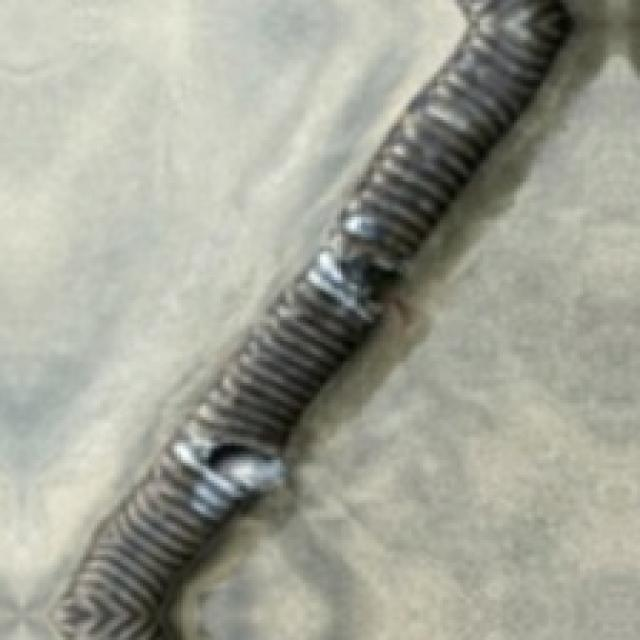king cobra: (174, 0, 637, 637), (0, 0, 463, 637)
